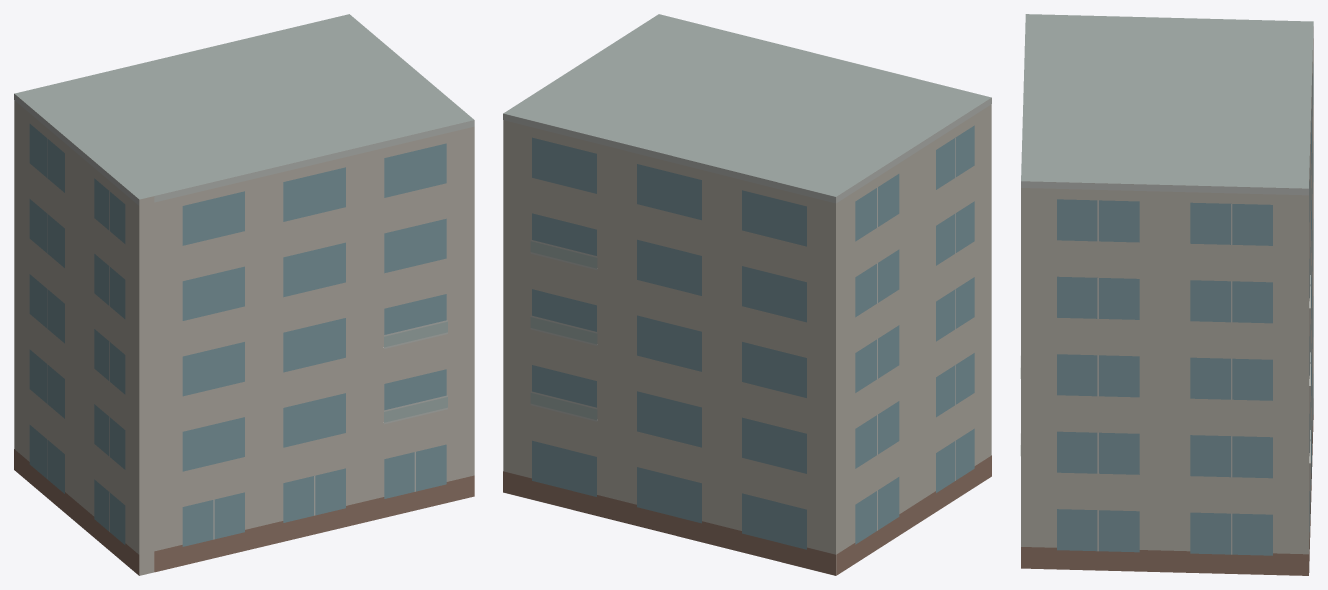
The model's file is survey-upis-32774155.glb.
The picture shows the model from 3 angles, left to right: view 1: azimuth 30°, elevation 25°; view 2: azimuth 150°, elevation 25°; view 3: azimuth 270°, elevation 25°; orthographic projection. The views are drawn at different scales.
Visible parts, largest first — view 1: survey-upis-32774155.tmp; view 2: survey-upis-32774155.tmp; view 3: survey-upis-32774155.tmp.
Boxes of the visible parts, left/top/right/bottom form: survey-upis-32774155.tmp: left=14, top=14, right=474, bottom=575; survey-upis-32774155.tmp: left=503, top=14, right=991, bottom=575; survey-upis-32774155.tmp: left=1020, top=14, right=1313, bottom=575.
Bounding box in the file's own units: 13.65 × 14.1 × 9.69.
